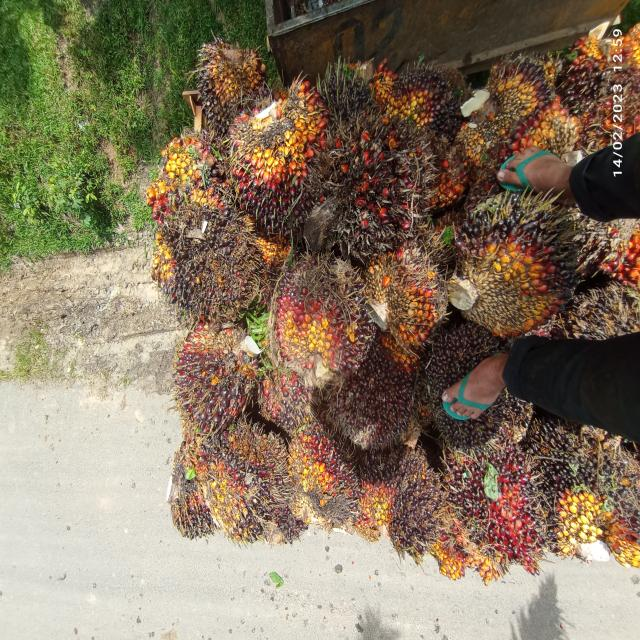fraksi 00: (124, 132, 263, 334), (438, 174, 580, 362), (531, 400, 640, 576), (337, 420, 437, 570), (202, 427, 316, 541), (187, 39, 288, 128), (391, 45, 464, 133), (314, 56, 375, 120)
fraksi 1: (219, 77, 338, 235), (440, 431, 546, 591), (263, 246, 376, 386), (328, 347, 419, 469), (154, 328, 264, 428), (273, 420, 379, 515)
fraksi 4: (332, 103, 428, 253), (368, 235, 448, 367)
